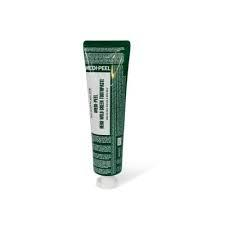toothpaste: (80, 35, 139, 195)
